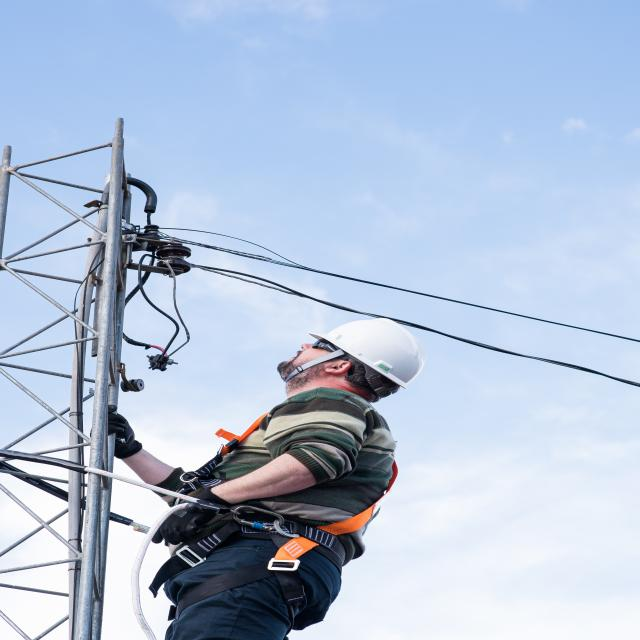capacete: (302, 312, 434, 393)
luva: (146, 483, 238, 547), (89, 408, 150, 464)
